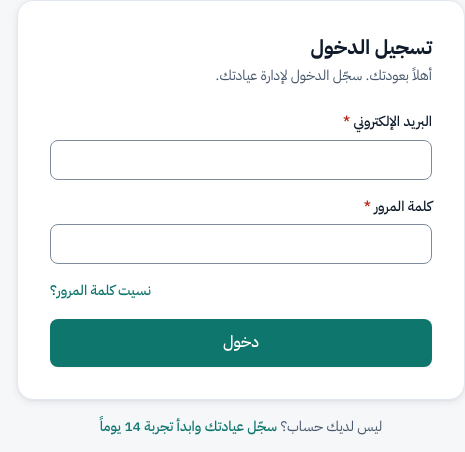
Test: Sign-in: the MFA challenge › moves from the password to the code step, without keeping the password around
In the field labelled "البريد الإلكتروني *": x=241, y=160 left=50, top=140, right=432, bottom=180, type "root@platform.test"
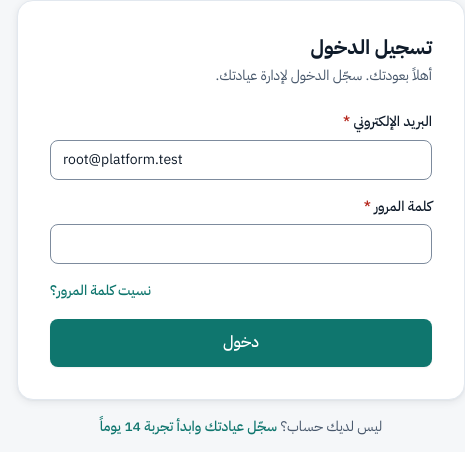
In the password field labelled "كلمة المرور *": x=241, y=244 left=50, top=224, right=432, bottom=264, type "Platform-Admin-Passw0rd!"
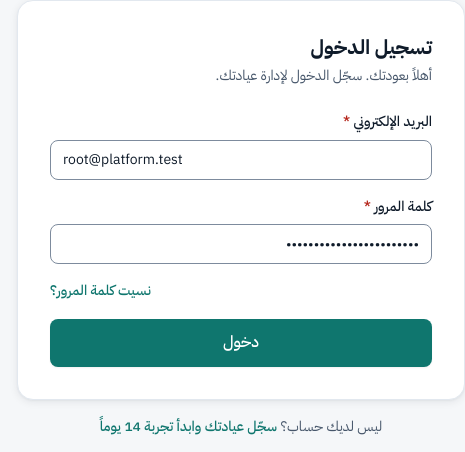
Click the button "دخول": x=241, y=343 left=50, top=319, right=432, bottom=367
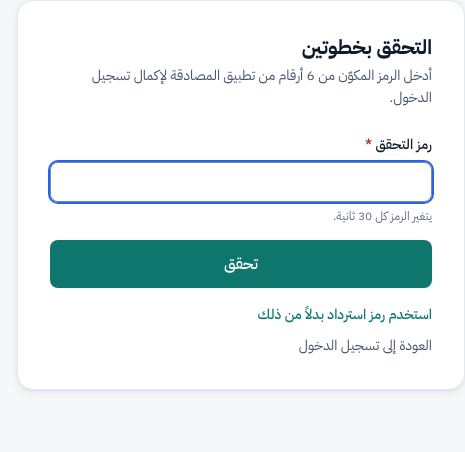
Expected: the heading "التحقق بخطوتين" is shown, left=302, top=32, right=432, bottom=62
